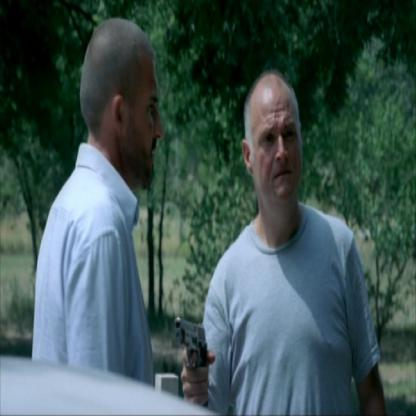Gun: (172, 311, 209, 387)
